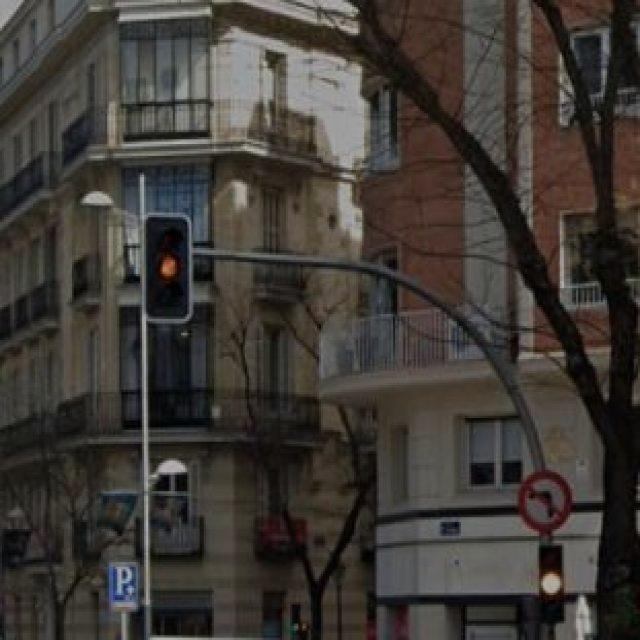Yellow: (146, 216, 186, 322), (538, 544, 562, 620)
